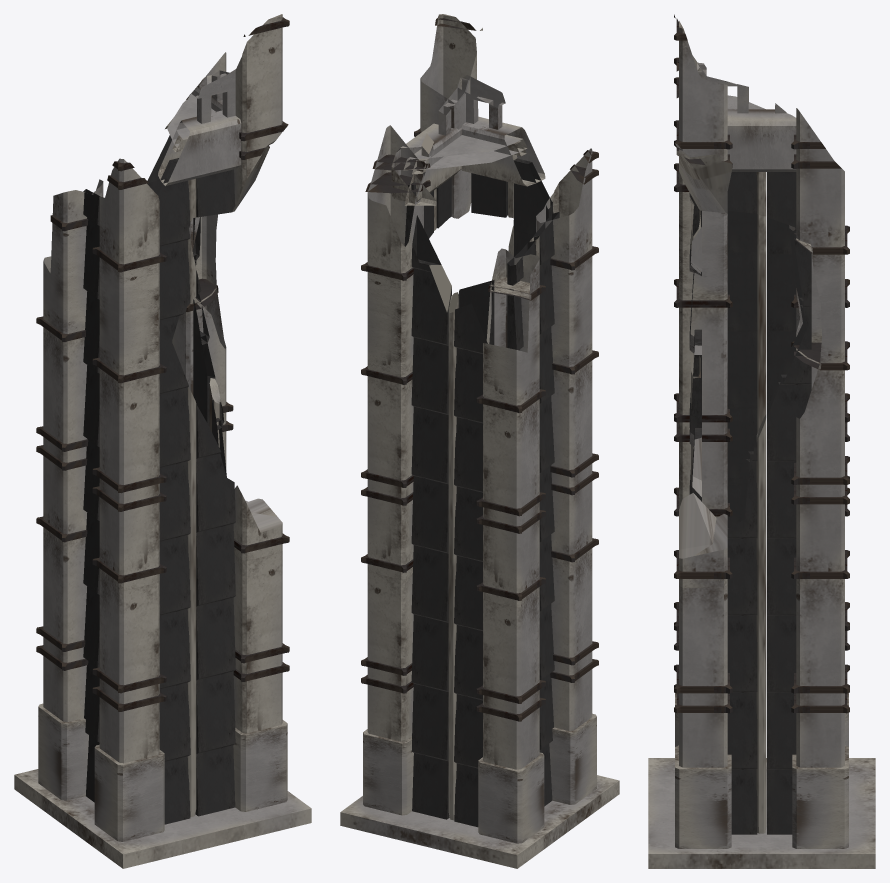
The model's file is Tower_destroyed.fbx.
3 renders of one model, left to right at view 1: azimuth 30°, elevation 25°; view 2: azimuth 150°, elevation 25°; view 3: azimuth 270°, elevation 25°, orthographic. The views are drawn at different scales.
Visible parts, largest first — view 1: Cube.048; view 2: Cube.048; view 3: Cube.048.
Part boxes in pixels (x1,y1,x2,y2): Cube.048: [14, 14, 311, 868]; Cube.048: [340, 14, 619, 868]; Cube.048: [648, 14, 875, 868].
Bounding box in the file's own units: 574 × 2326 × 574.
3 materials, 3 textured.
